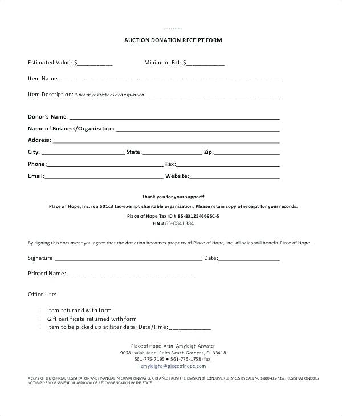textline: (67, 107, 282, 123), (58, 71, 282, 84), (52, 134, 282, 146), (115, 121, 281, 134), (53, 251, 203, 263), (142, 88, 281, 100), (64, 266, 203, 278), (43, 169, 166, 181), (46, 158, 164, 169), (175, 157, 282, 169), (40, 146, 126, 157), (188, 171, 282, 181), (211, 146, 282, 157), (218, 251, 283, 263), (141, 146, 203, 158), (168, 319, 212, 333), (76, 55, 115, 68), (185, 56, 227, 67)
